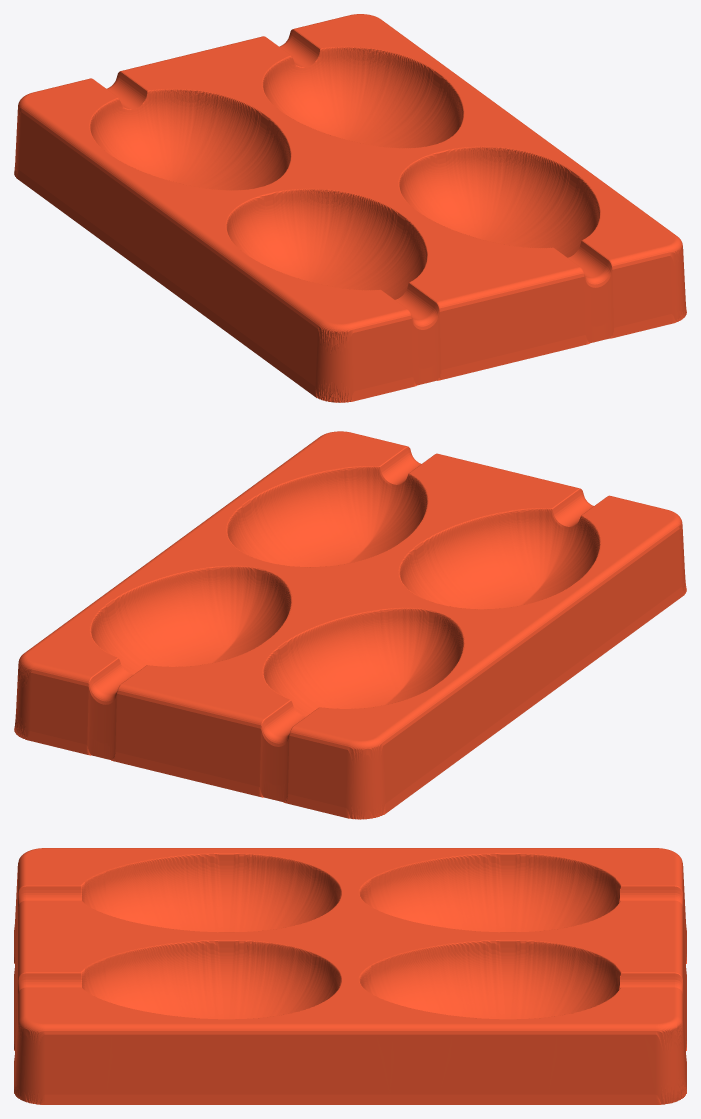
Rendered from mold.glb.
3 views of the same model, one above another, from view 1: azimuth 30°, elevation 25°; view 2: azimuth 150°, elevation 25°; view 3: azimuth 270°, elevation 25° (orthographic). The views are drawn at different scales.
Visible parts, largest first — view 1: geometry_0; view 2: geometry_0; view 3: geometry_0.
Boxes of the visible parts, x1,y1,x2,y2 form: geometry_0: (14, 14, 686, 402); geometry_0: (14, 431, 686, 819); geometry_0: (14, 848, 686, 1104).
Bounding box in the file's own units: 0.1283 × 0.0245 × 0.1968.
